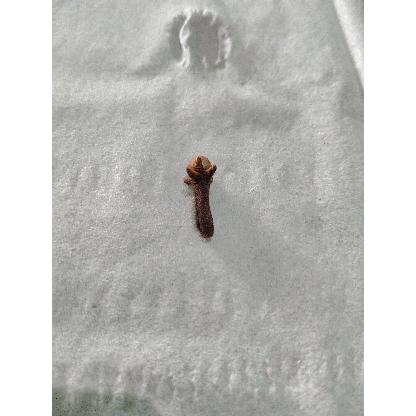baik: (184, 156, 217, 241)
